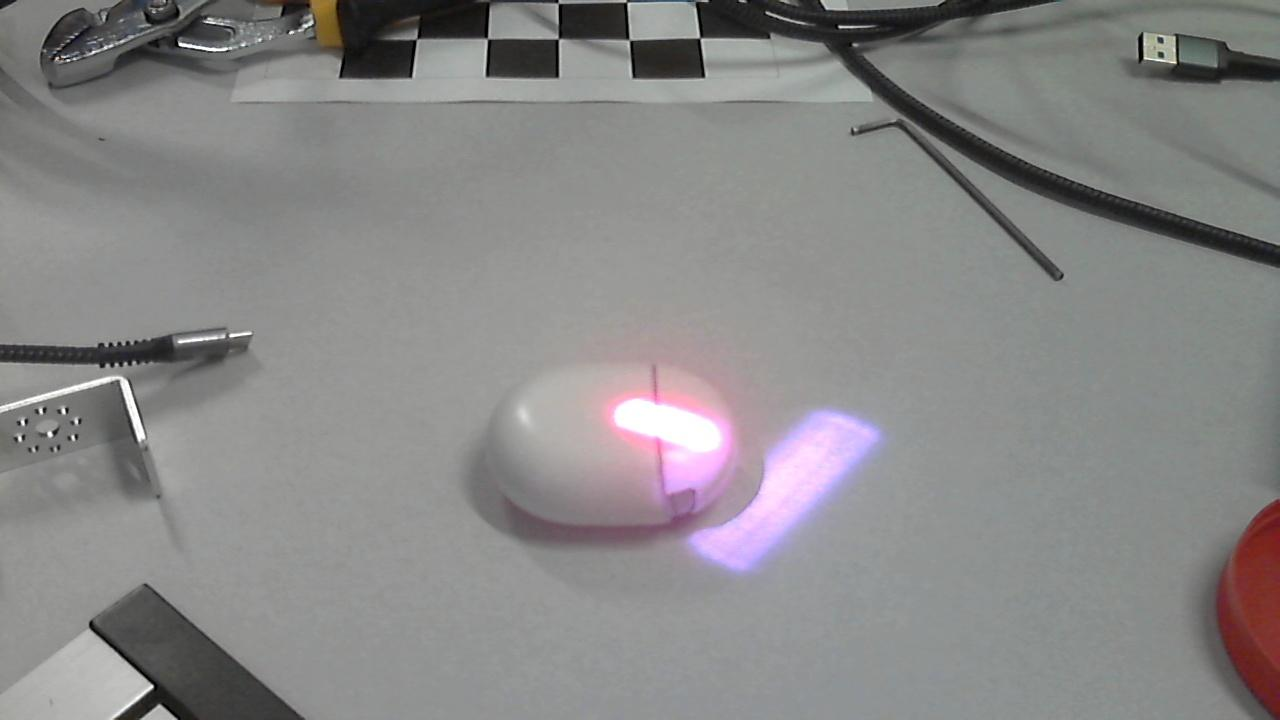Object wireless earbud charging case - Material plastic - Pdfname qzJIPQkli2jB: (476, 358, 758, 532)
